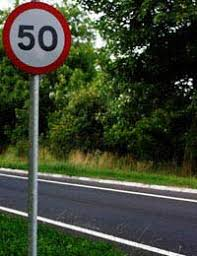Speed_limit_50km: (4, 3, 71, 73)
